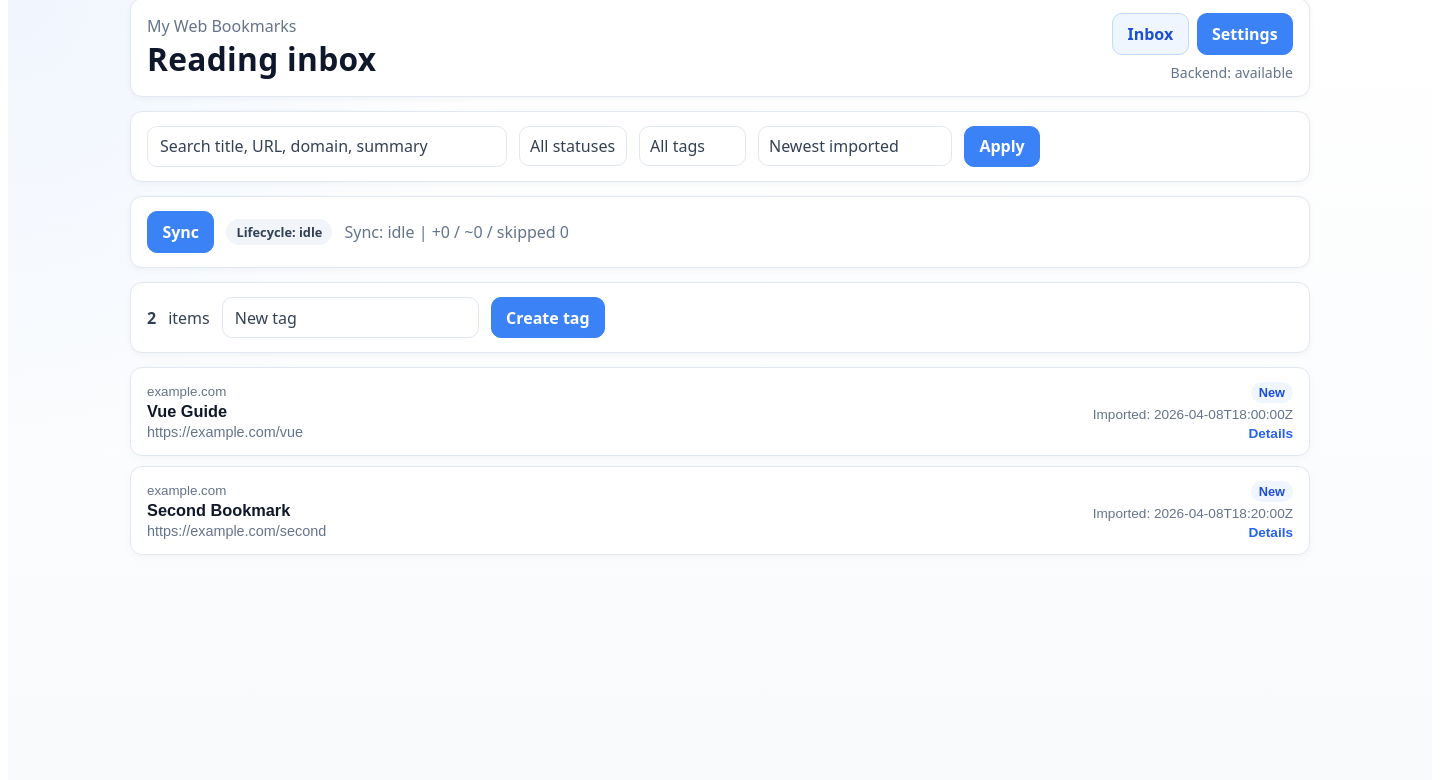
Test: App › attaches existing tags only through the selected item card tag input
Click the button with aria-label "Toggle details for Second Bookmark" at (187, 490), box [131,467,1309,554]
(page scrolled)
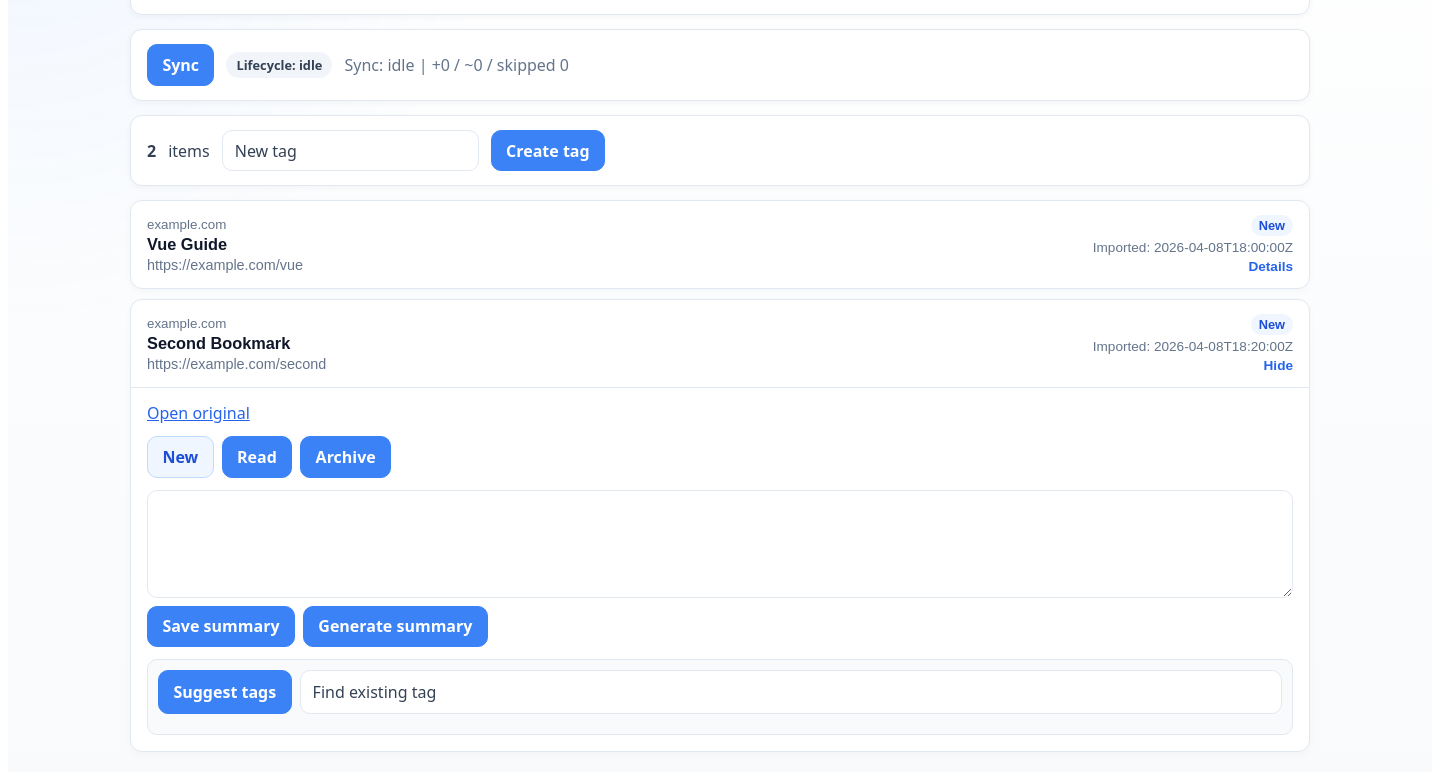
Type "read" into the field named "Find tag for Second Bookmark" at (791, 692), box [300,670,1282,714]
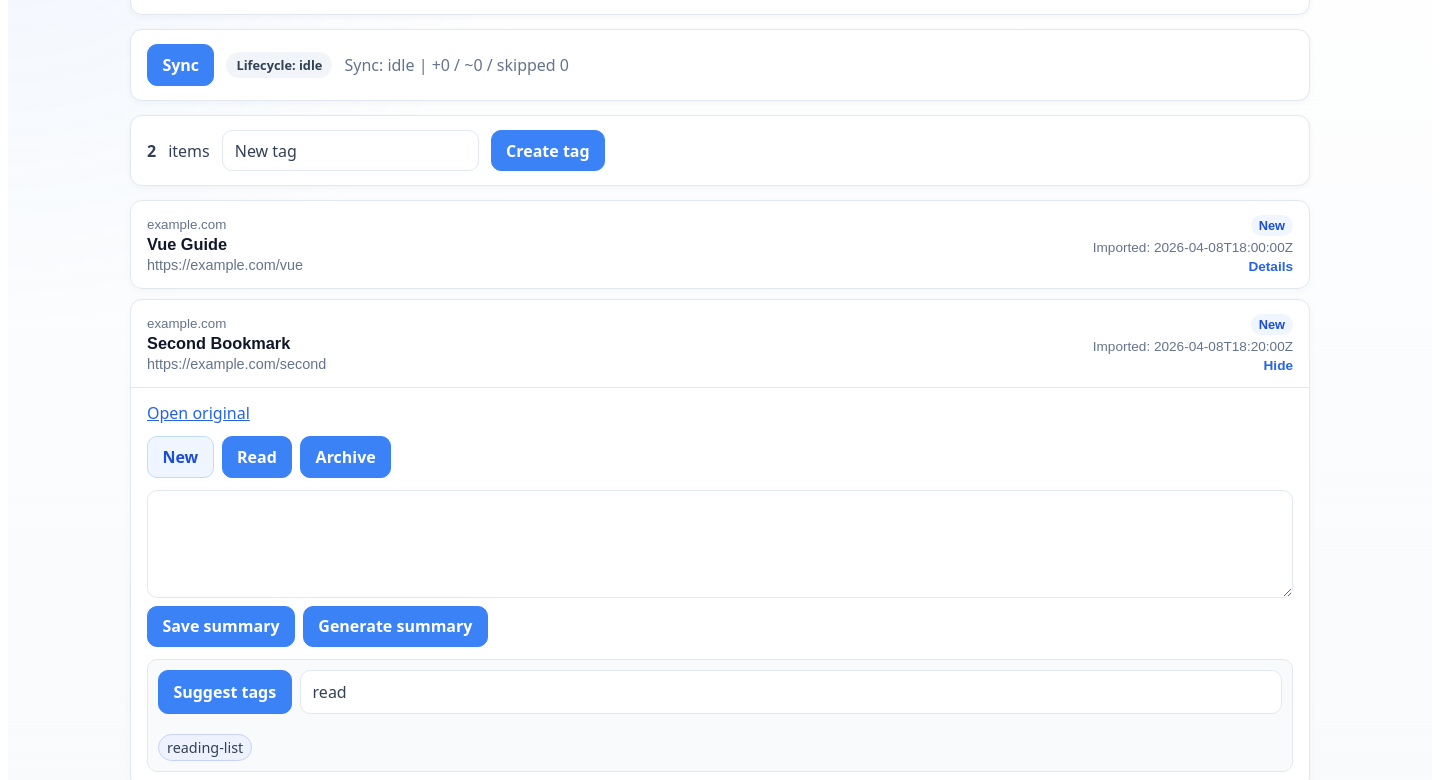
Check: the text "reading-list" is shown
Click the button with aria-label "Apply existing tag reading-list to Second Bookmark" at (205, 748), box [167,739,243,756]
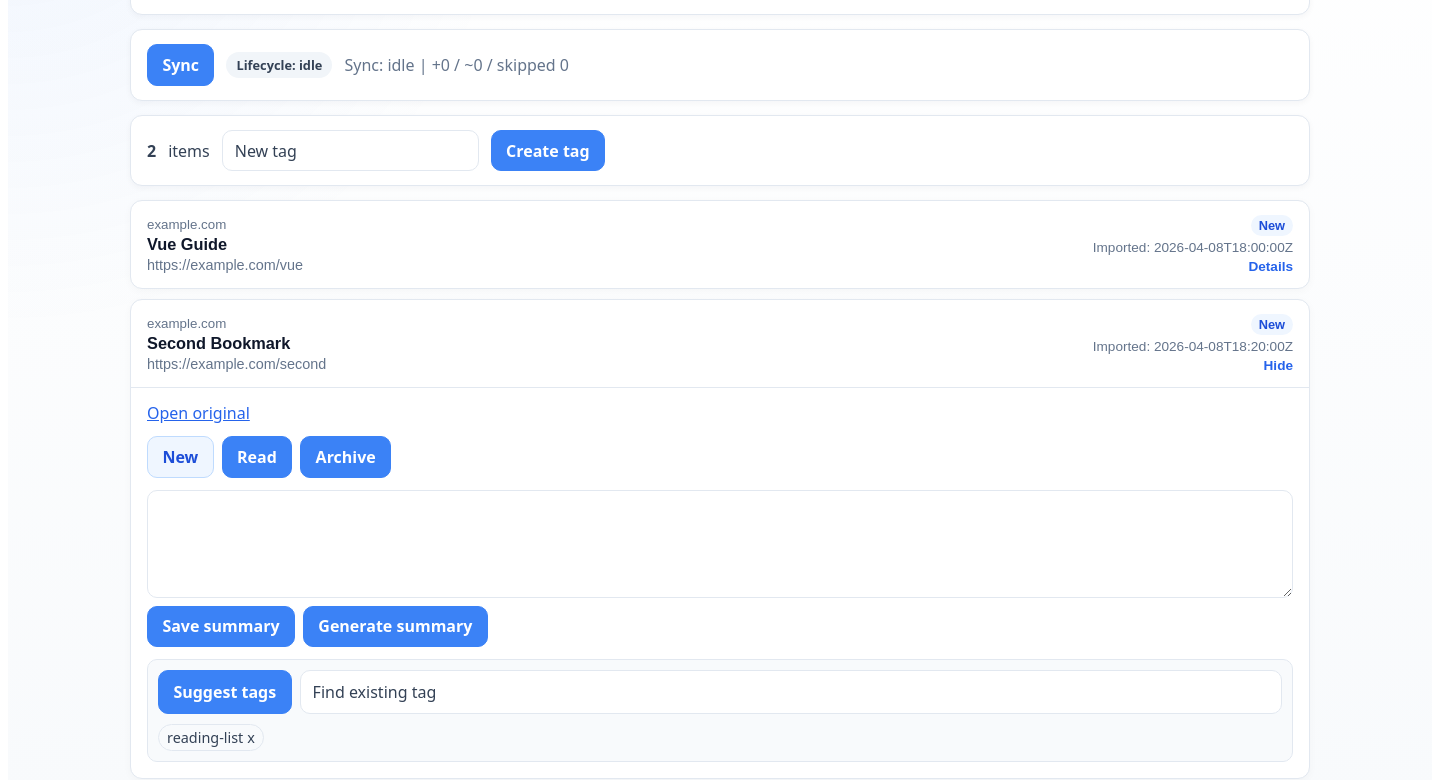
Check: the field named "Find tag for Second Bookmark" is empty, box [300,670,1282,714]
Check: the text "reading-list x" is shown, box [158,724,264,752]
